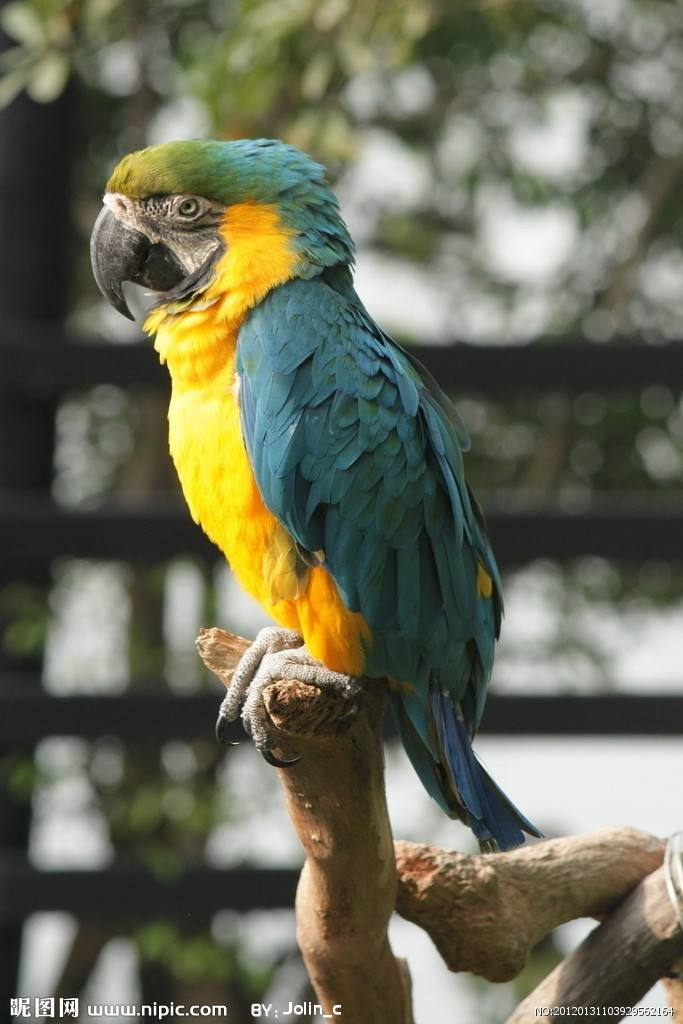bird: (83, 132, 511, 683)
